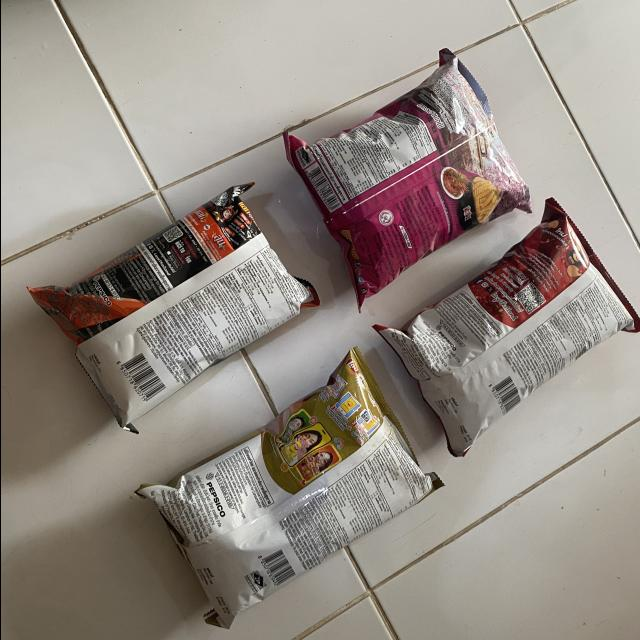plastik: (135, 348, 441, 627), (27, 183, 318, 433), (374, 198, 640, 456), (282, 48, 531, 307)
